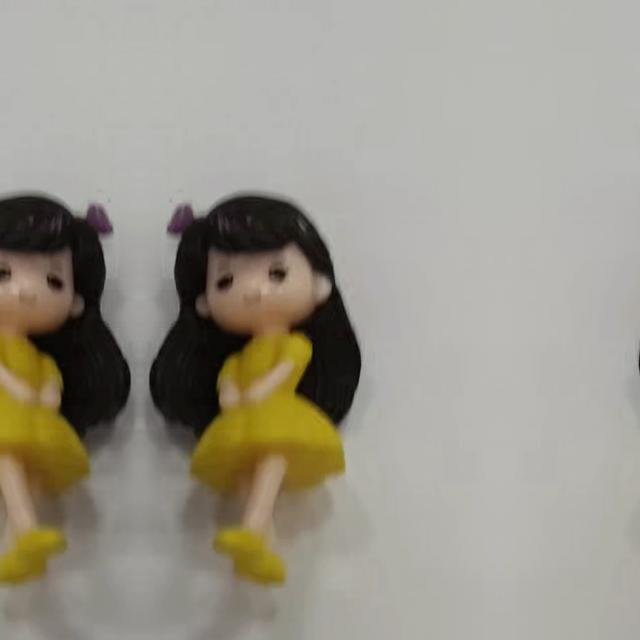woman dress: (191, 336, 343, 586), (0, 335, 89, 586)
woman head: (160, 177, 352, 337), (0, 177, 120, 337)
